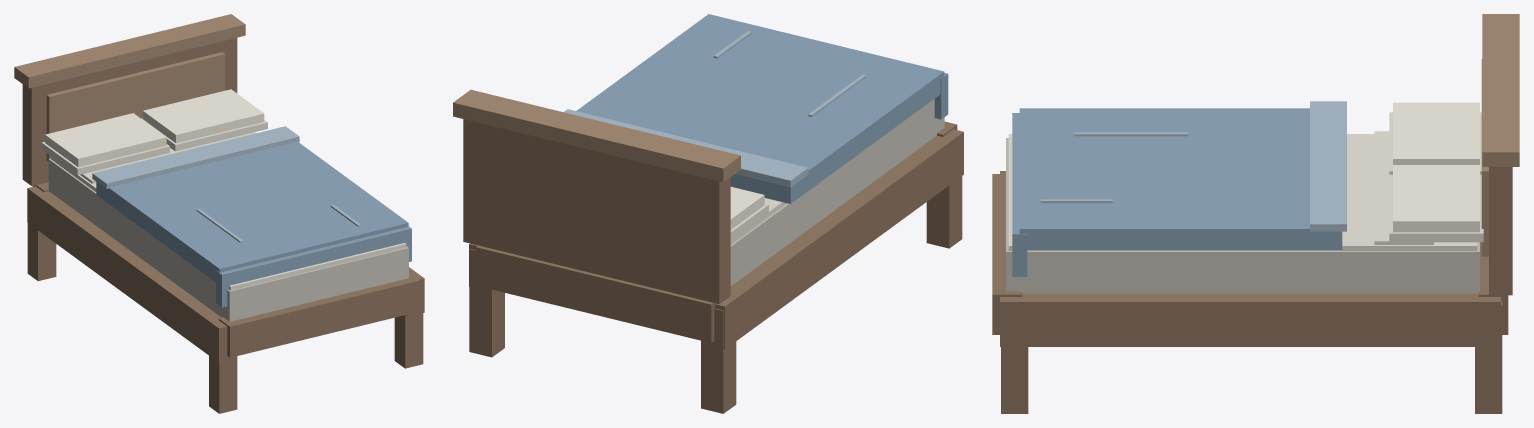
Rendered from Bed001.glb.
3 renders of one model, left to right at view 1: azimuth 30°, elevation 25°; view 2: azimuth 150°, elevation 25°; view 3: azimuth 270°, elevation 25°, orthographic. The views are drawn at different scales.
Visible parts, largest first — view 1: Bed001_Mesh; view 2: Bed001_Mesh; view 3: Bed001_Mesh.
Part boxes in pixels (x1,y1,x2,y2): Bed001_Mesh: [14, 14, 424, 413]; Bed001_Mesh: [453, 14, 963, 413]; Bed001_Mesh: [992, 14, 1519, 413].
Size of the model in its own units: 1.32 by 1.18 by 2.12.
